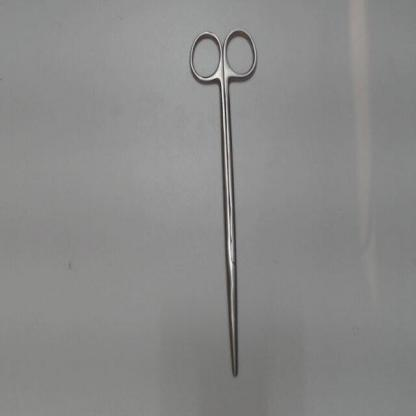9 Metzenbaum Scissors: (185, 20, 261, 380)
